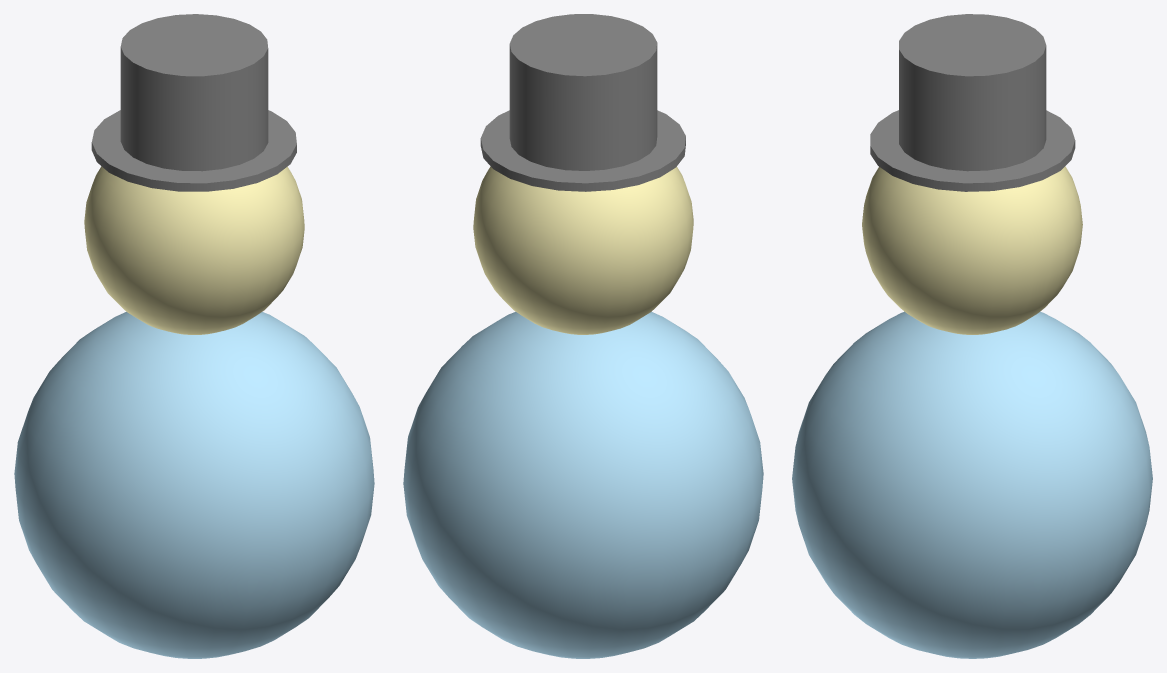
Rendered from Gosn4.fbx.
3 views of the same model, side by side, from view 1: azimuth 30°, elevation 25°; view 2: azimuth 150°, elevation 25°; view 3: azimuth 270°, elevation 25° (orthographic).
Visible parts, largest first — view 1: cika_2_1, cika_2_1.001, cika_2_1.002; view 2: cika_2_1, cika_2_1.001, cika_2_1.002; view 3: cika_2_1, cika_2_1.001, cika_2_1.002.
Boxes of the visible parts, x1,y1,x2,y2 form: cika_2_1: [14, 312, 374, 658]; cika_2_1.001: [84, 166, 304, 334]; cika_2_1.002: [91, 14, 296, 191]; cika_2_1: [403, 311, 763, 658]; cika_2_1.001: [473, 166, 693, 334]; cika_2_1.002: [480, 14, 685, 191]; cika_2_1: [792, 311, 1152, 658]; cika_2_1.001: [862, 166, 1082, 334]; cika_2_1.002: [870, 14, 1075, 191].
Bounding box in the file's own units: 5301 × 9675 × 5301.
